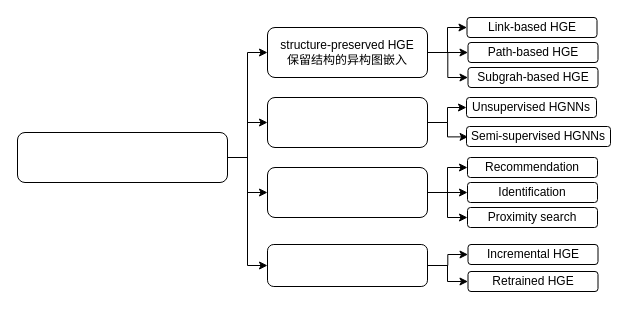
This 628x309 diagram has some shape labels left out. The shapes that lost their labels are listed below. From the top down, each one's centre as x and y in pixels, then its label:
point (347, 122): attribute-assisted HGE 属性辅助异构图嵌入
point (122, 157): Heterogeneous Graph Embedding 异构图嵌入
point (347, 192): Application-oriented HGE 面向应用的异构图嵌入
point (347, 265): Dynamic HGE 动态异构图嵌入
